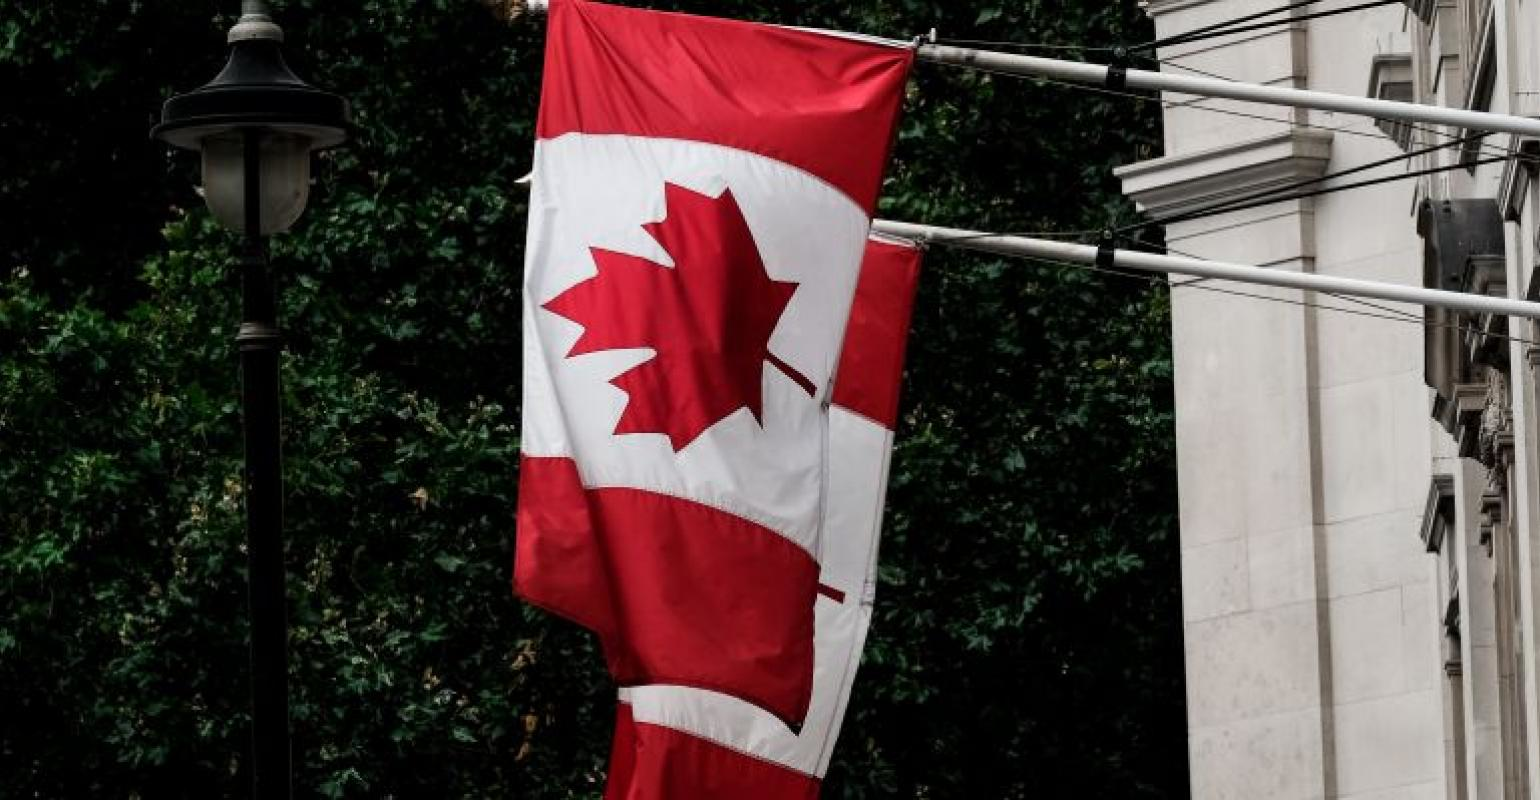Canada flag: (515, 13, 892, 725)
